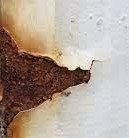Corrosion: (1, 15, 92, 138)
